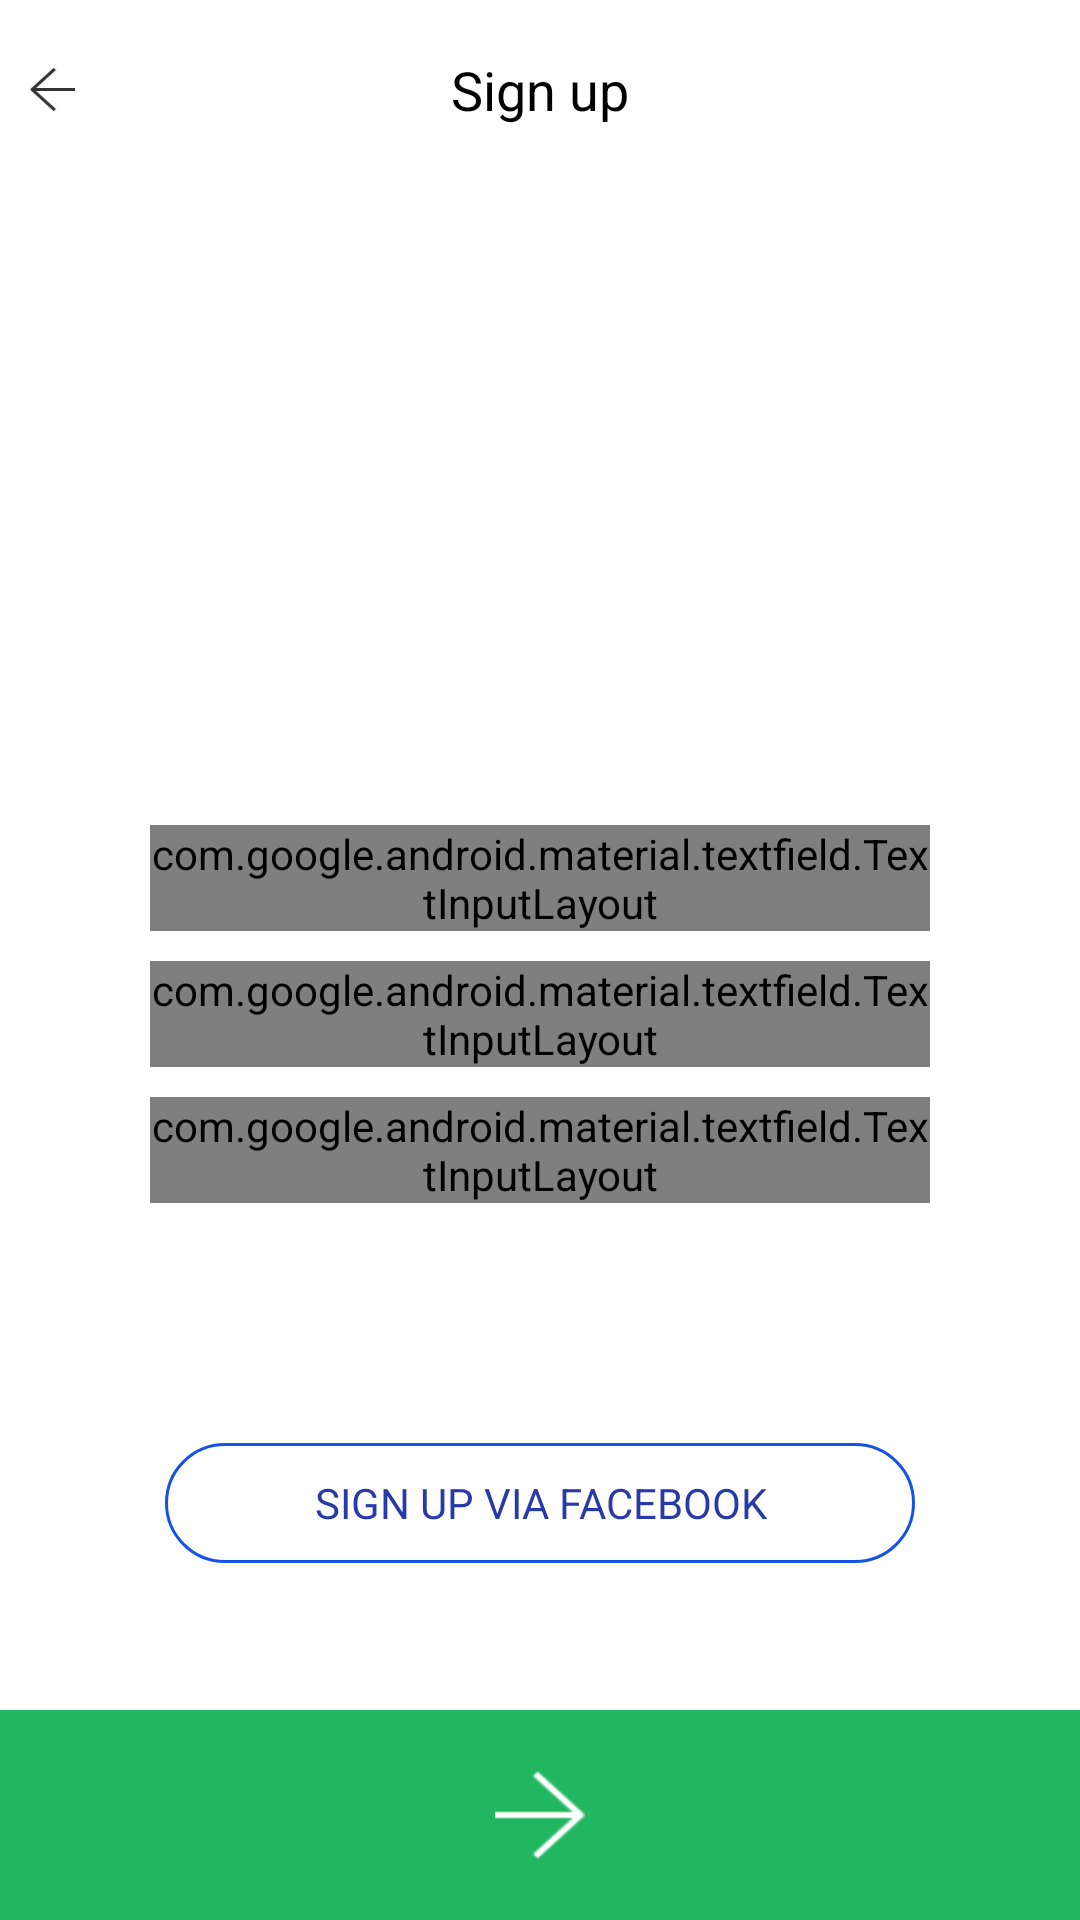

Named icons in this screenshot (1080 x 1920) and their bounding boxes, rect(x1, y1, x2, y2):
back: rect(30, 68, 75, 111)
